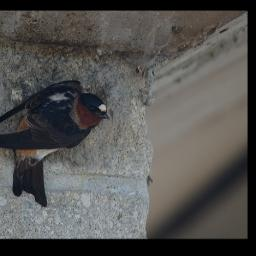Swallow: (0, 77, 111, 206)
